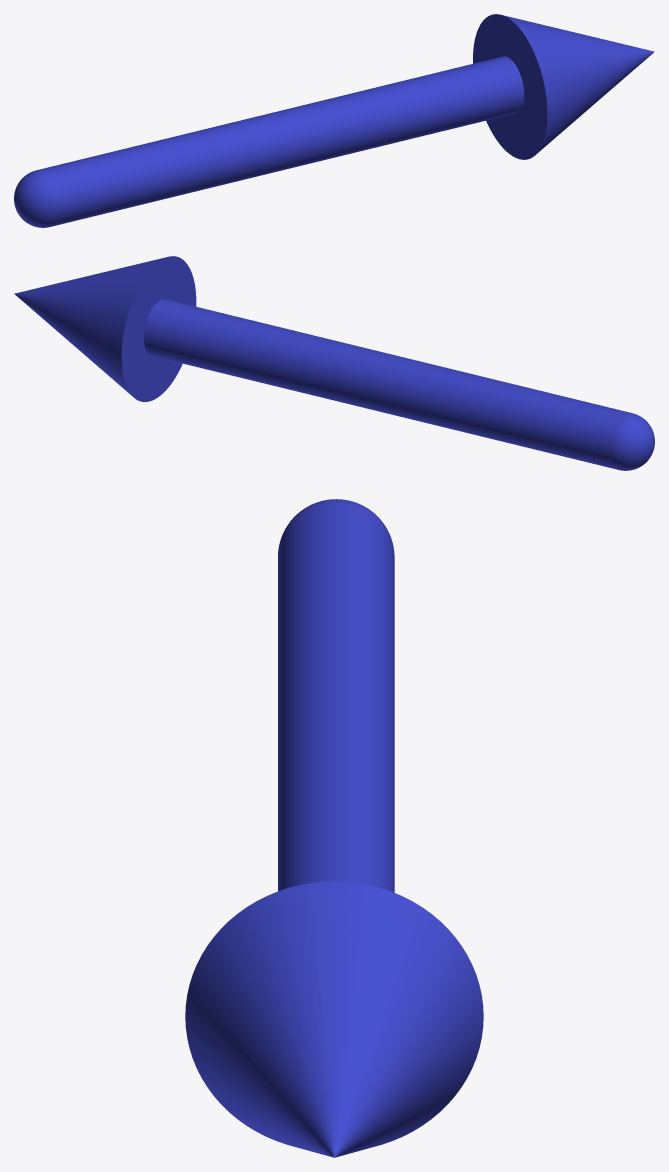
File: Vector.fbx
The picture shows the model from 3 angles, top to bottom: view 1: azimuth 30°, elevation 25°; view 2: azimuth 150°, elevation 25°; view 3: azimuth 270°, elevation 25°; orthographic projection. The views are drawn at different scales.
Parts seen in each view (by area): view 1: root (×2); view 2: root (×2); view 3: root (×2).
Boxes of the visible parts, x1,y1,x2,y2 form: root (×2): (14, 14, 654, 227); root (×2): (14, 256, 654, 470); root (×2): (185, 499, 483, 1157).
Size of the model in its own units: 1.07 by 0.2181 by 0.2181.
